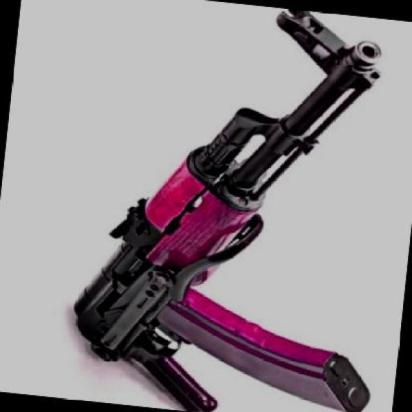Gun: (48, 6, 412, 412)
